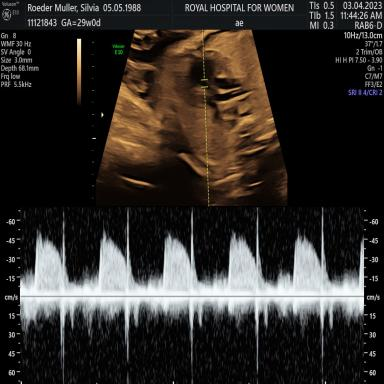Ultrasound-Waves: (27, 208, 359, 384)
